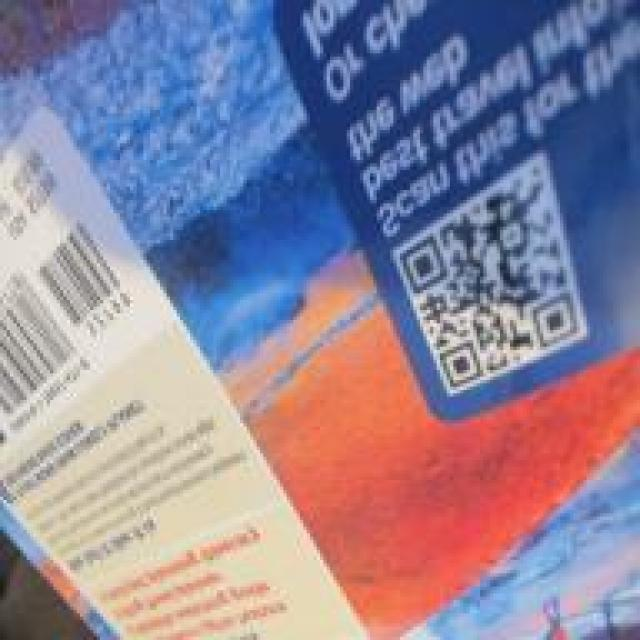qr_code: (399, 164, 581, 389)
